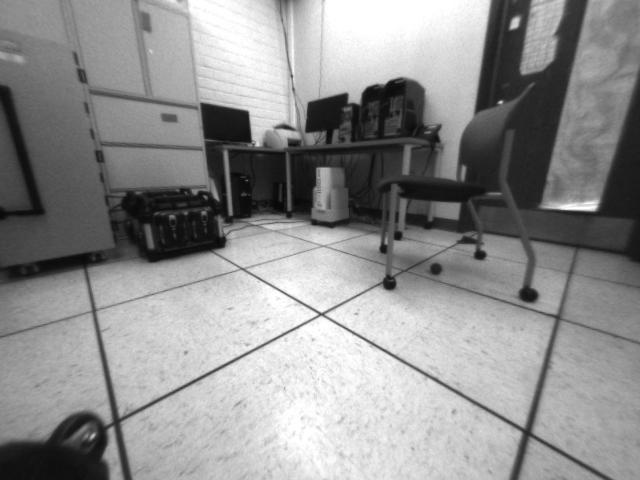dogtoy: (425, 259, 450, 277)
